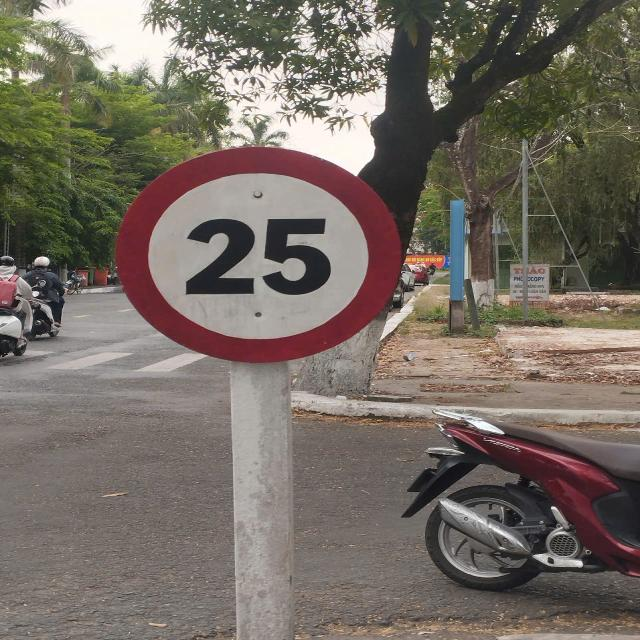Tre_Em: (113, 144, 401, 362)
